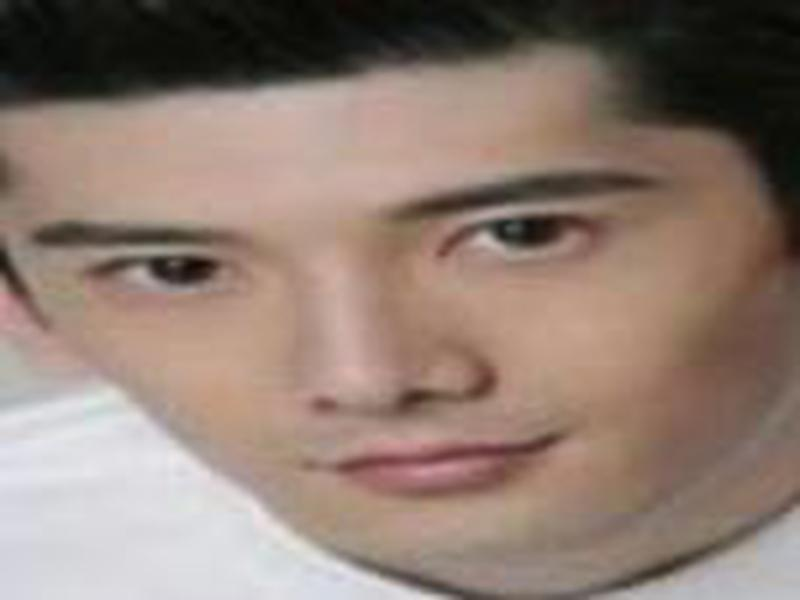without_mask: (14, 67, 778, 576)
